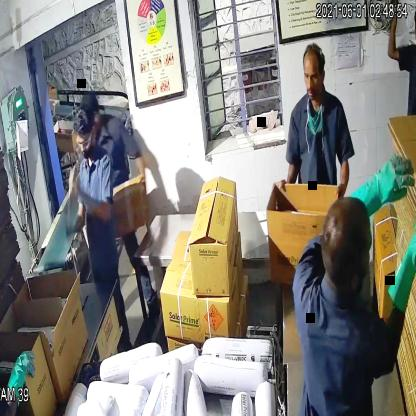goggles: (73, 133, 99, 155)
no_goggles: (301, 66, 326, 88)
